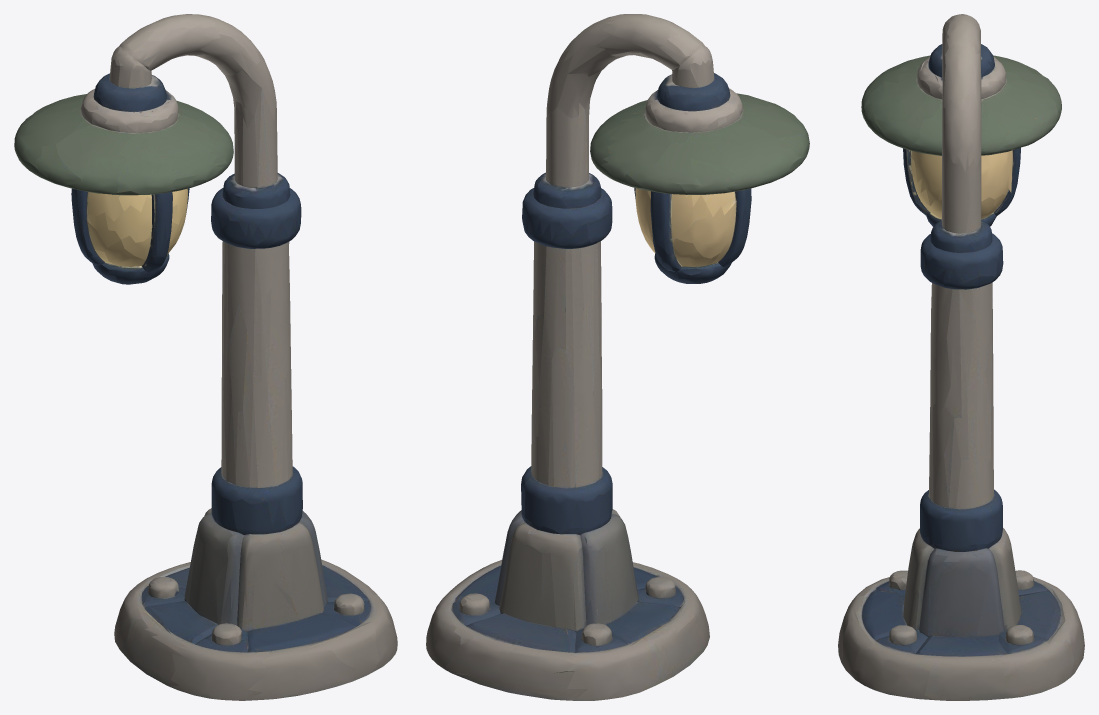
The model's file is common-infrastructure-street-lamp-column-civic-normal.glb.
3 renders of one model, left to right at view 1: azimuth 30°, elevation 25°; view 2: azimuth 150°, elevation 25°; view 3: azimuth 270°, elevation 25°, orthographic. The views are drawn at different scales.
Visible parts, largest first — view 1: Mesh_0; view 2: Mesh_0; view 3: Mesh_0.
Boxes of the visible parts, box(x1,y1,x2,y2) form: Mesh_0: box(14, 14, 397, 700); Mesh_0: box(426, 14, 809, 700); Mesh_0: box(838, 14, 1084, 700).
Bounding box in the file's own units: 0.8382 × 1.5 × 0.5689.
1 material, 1 textured.
